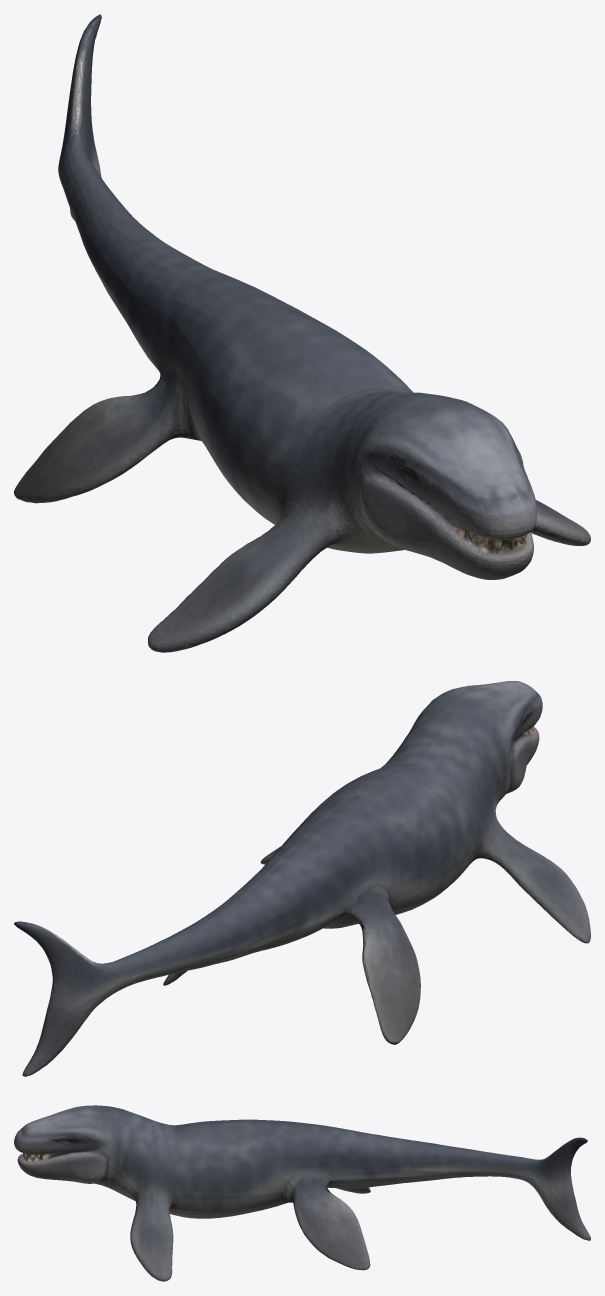
3 renders of one model, top to bottom at view 1: azimuth 30°, elevation 25°; view 2: azimuth 150°, elevation 25°; view 3: azimuth 270°, elevation 25°, orthographic. The views are drawn at different scales.
Visible parts, largest first — view 1: world; view 2: world; view 3: world.
Boxes of the visible parts, bbox=[...] form: world: bbox=[14, 14, 590, 652]; world: bbox=[14, 681, 590, 1076]; world: bbox=[14, 1105, 590, 1281].
Bounding box in the file's own units: 0.4521 × 0.2459 × 0.9998.
2 materials, 1 textured.
